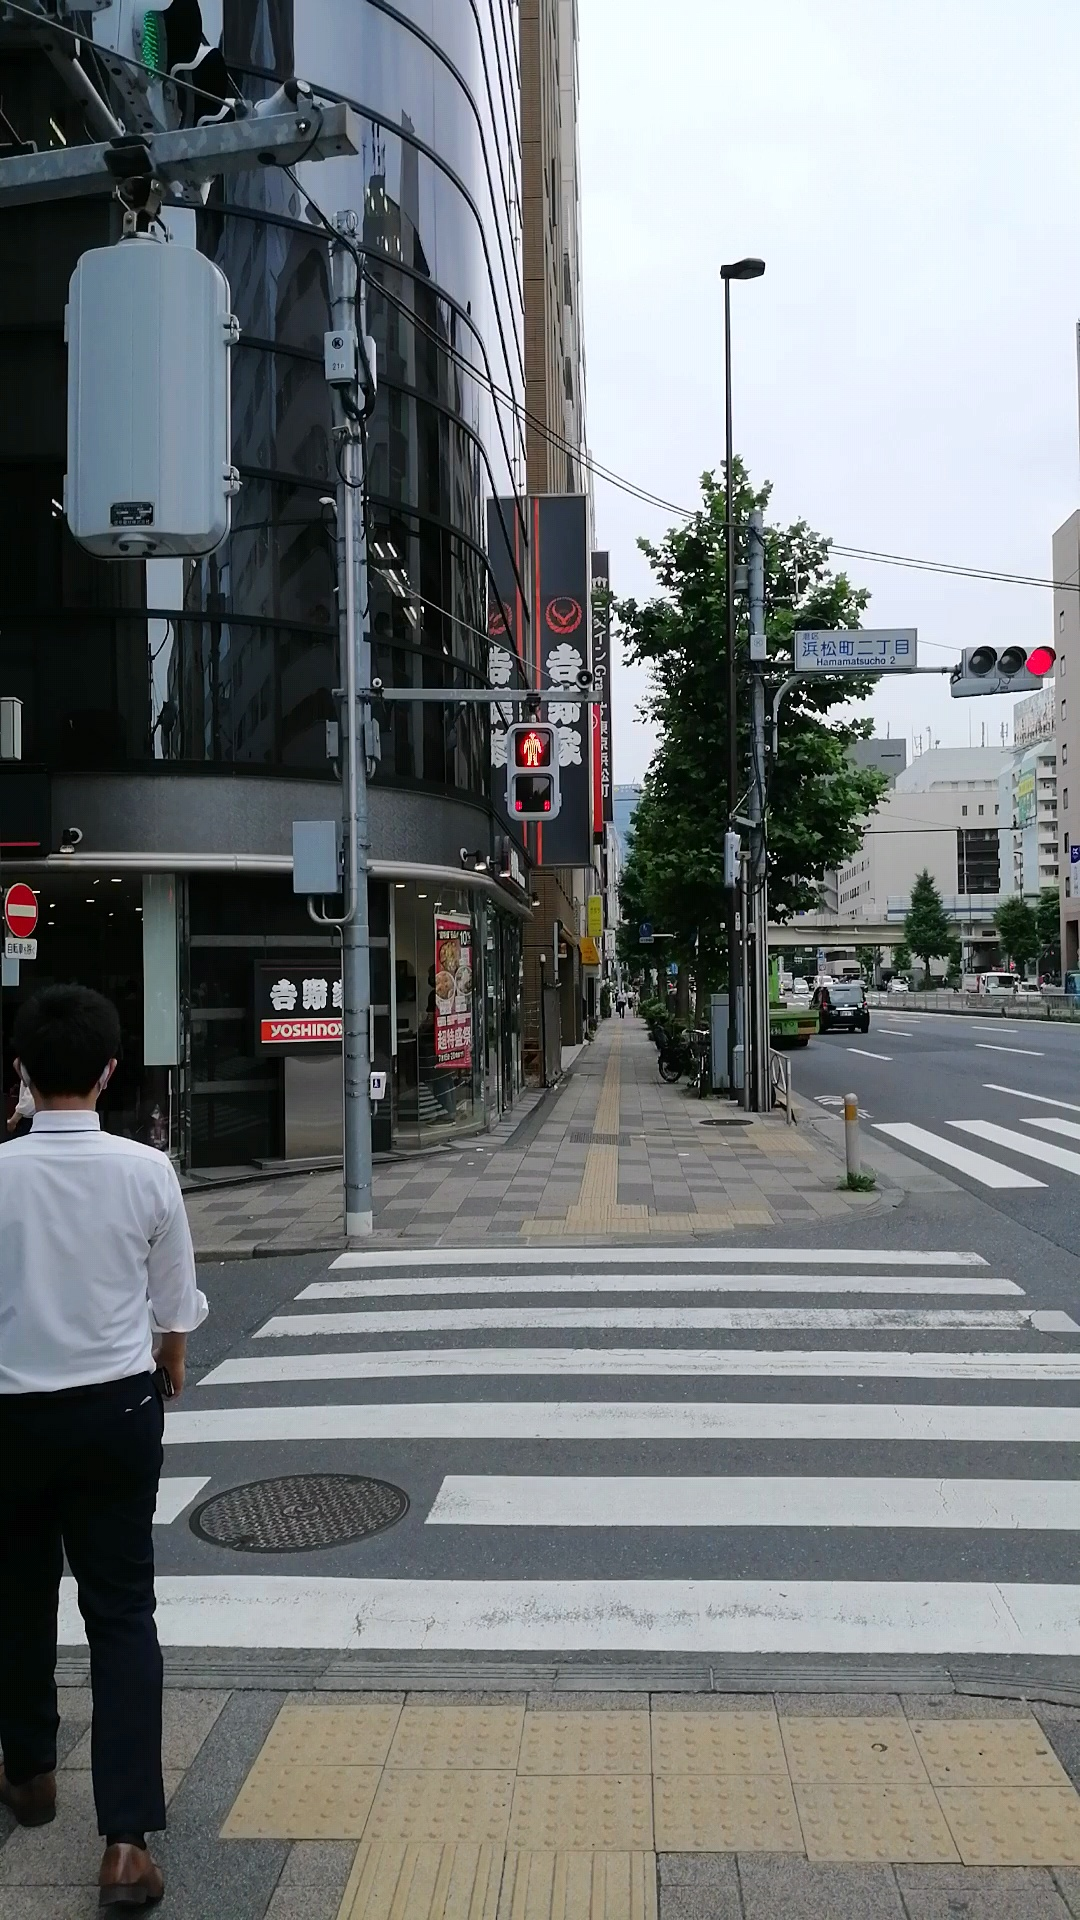red: (506, 723, 559, 818)
